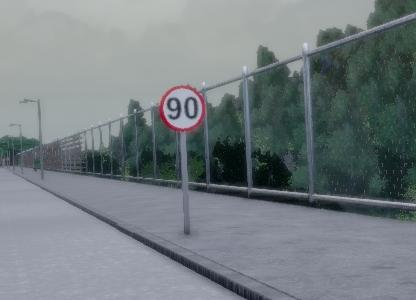Speed_90: (158, 81, 207, 134)
